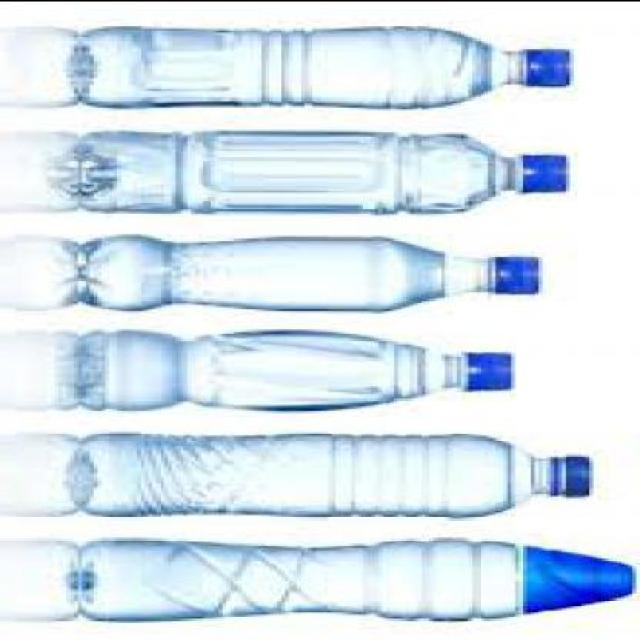PLASTIC: (77, 532, 638, 616), (78, 428, 598, 514), (75, 127, 573, 210), (75, 23, 573, 103), (74, 230, 546, 310), (78, 324, 516, 407), (519, 540, 639, 611), (515, 149, 574, 189), (488, 252, 546, 292), (460, 347, 515, 388), (546, 452, 597, 494), (522, 46, 578, 83)
